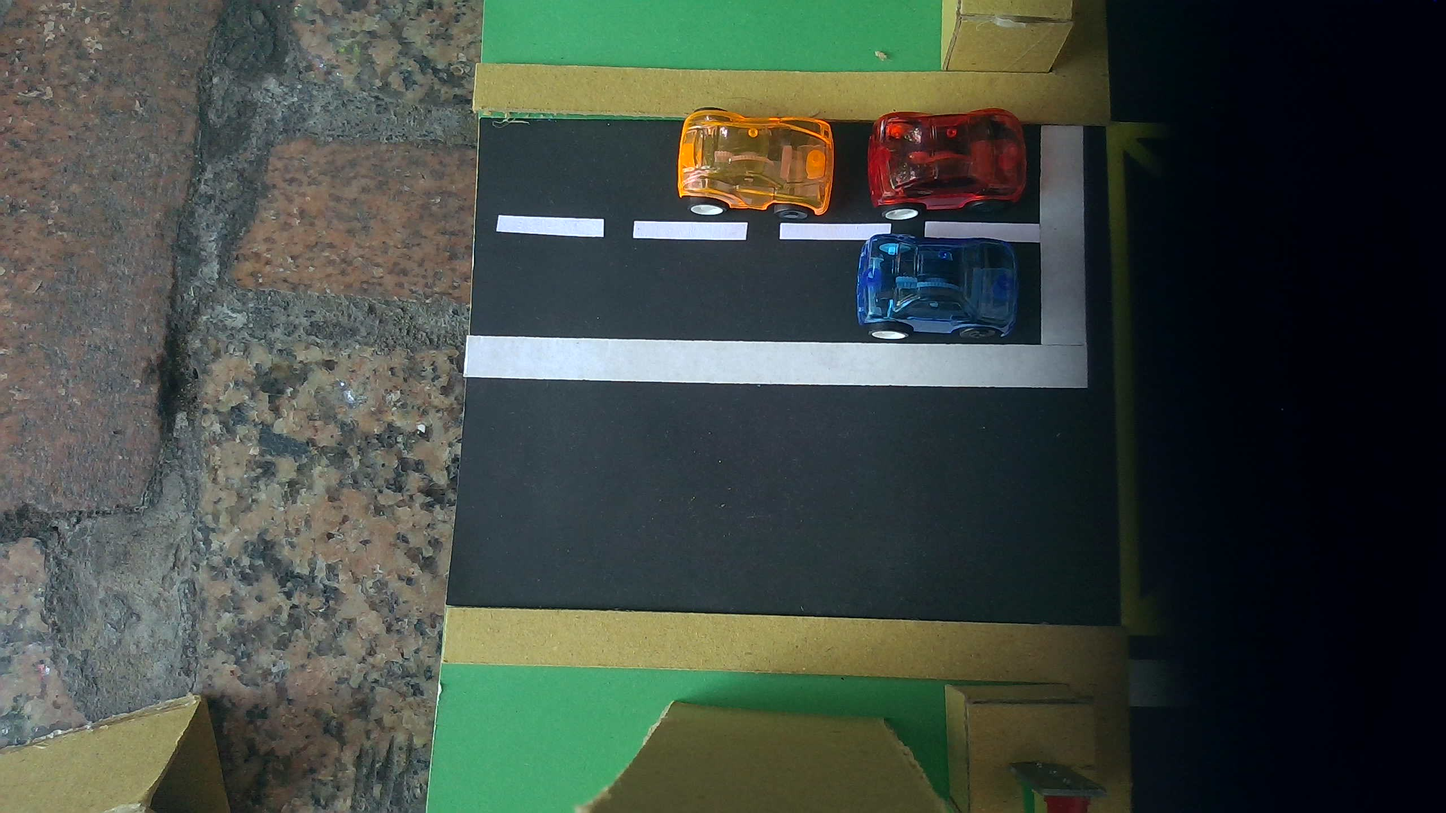Mobil biru: (856, 234, 1018, 340)
Mobil merah: (868, 108, 1027, 219)
Mobil orange: (677, 108, 835, 220)
